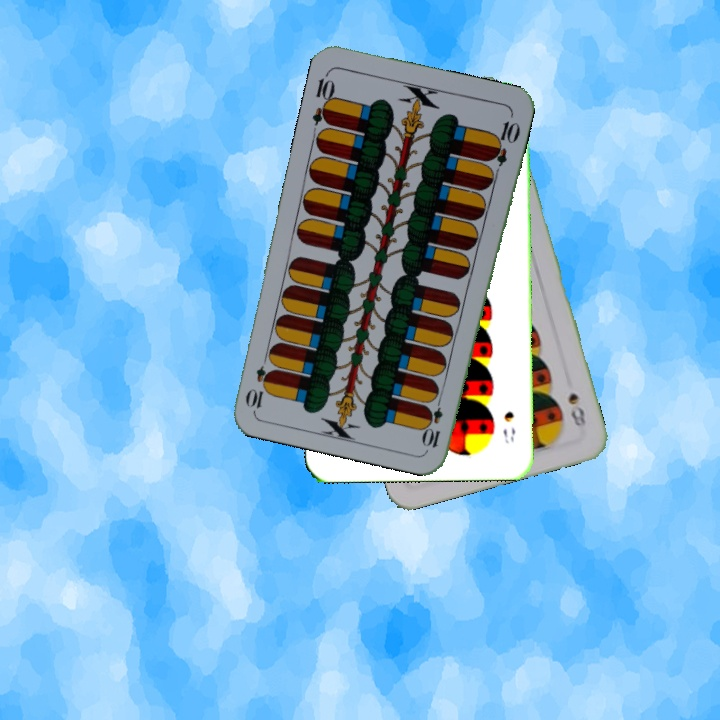E10: (308, 68, 338, 127), (421, 391, 446, 450)
S8: (564, 389, 588, 429), (499, 407, 518, 446)
